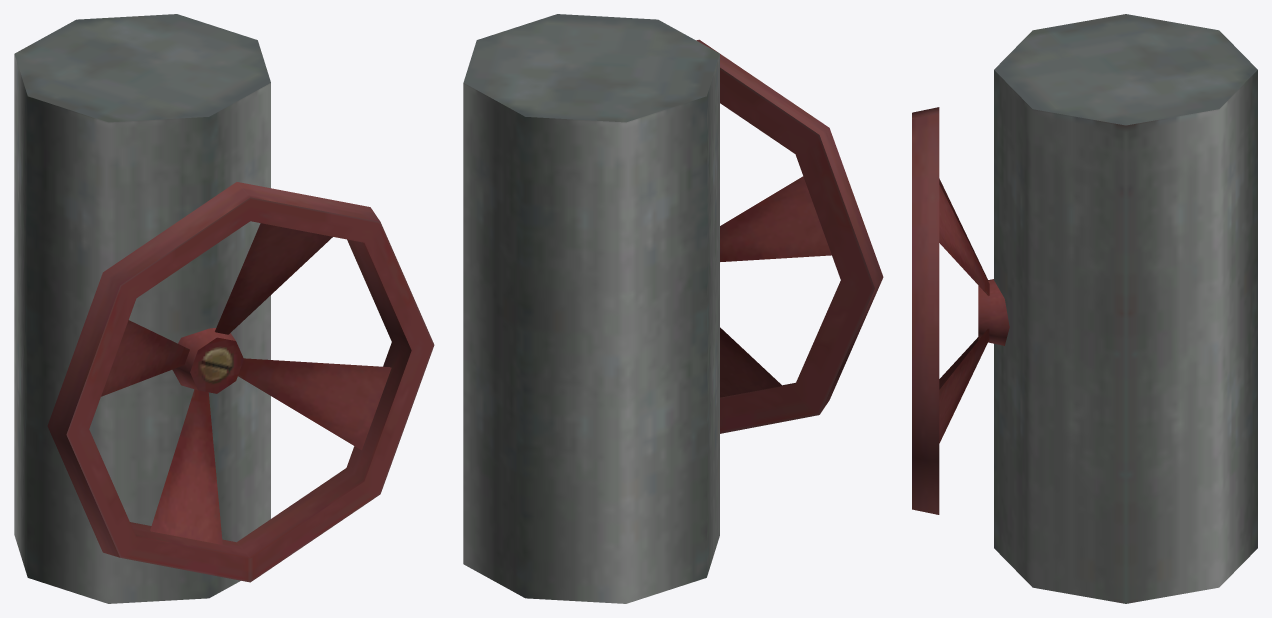
The model's file is valve.obj.
The picture shows the model from 3 angles, left to right: view 1: azimuth 30°, elevation 25°; view 2: azimuth 150°, elevation 25°; view 3: azimuth 270°, elevation 25°; orthographic projection.
Parts seen in each view (by area): view 1: valve; view 2: valve; view 3: valve.
Part boxes in pixels (<box>): valve: <box>14,14,434,603</box>; valve: <box>463,14,883,603</box>; valve: <box>912,14,1257,603</box>.
Size of the model in its own units: 0.8227 by 1 by 0.6553.
Materials: 1 (1 with a texture image).
